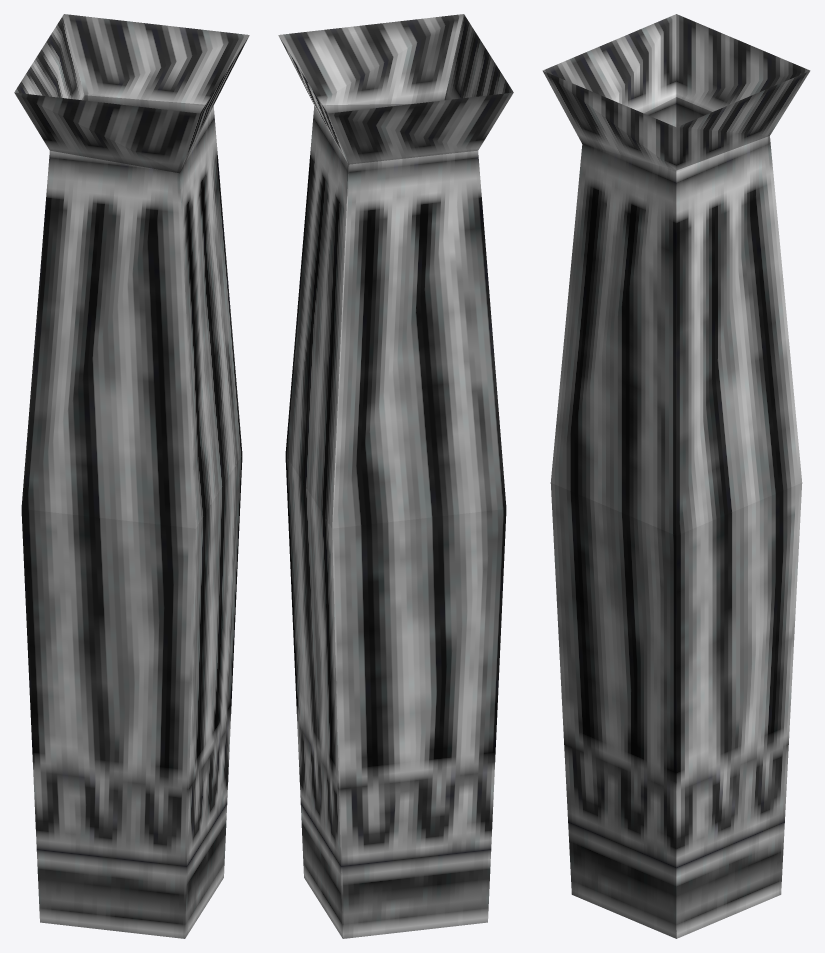
The model's file is Säule_Gerippt_381.glb.
The picture shows the model from 3 angles, left to right: view 1: azimuth 30°, elevation 25°; view 2: azimuth 150°, elevation 25°; view 3: azimuth 270°, elevation 25°; orthographic projection.
Parts seen in each view (by area): view 1: pCylinderShape6; view 2: pCylinderShape6; view 3: pCylinderShape6.
Boxes of the visible parts, bbox=[...] form: pCylinderShape6: bbox=[14, 14, 249, 938]; pCylinderShape6: bbox=[278, 14, 513, 938]; pCylinderShape6: bbox=[542, 14, 810, 938].
Bounding box in the file's own units: 0.1176 × 0.399 × 0.1176.
Materials: 1 (1 with a texture image).
